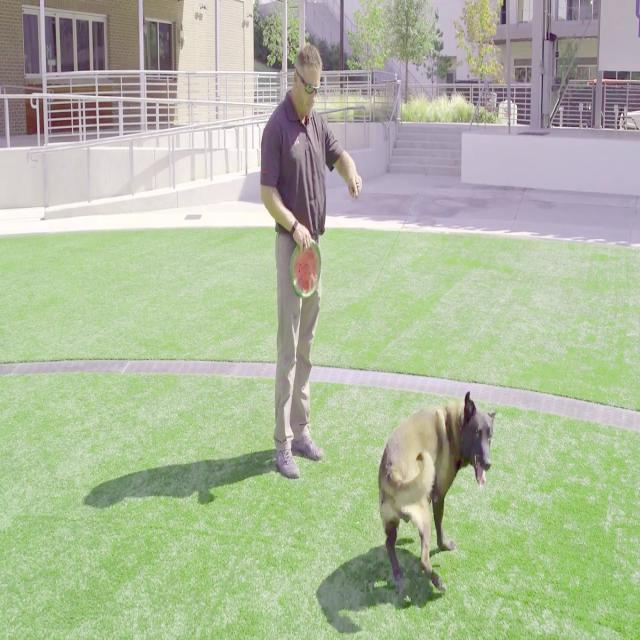Unleashed_Dog: (290, 237, 496, 594)
